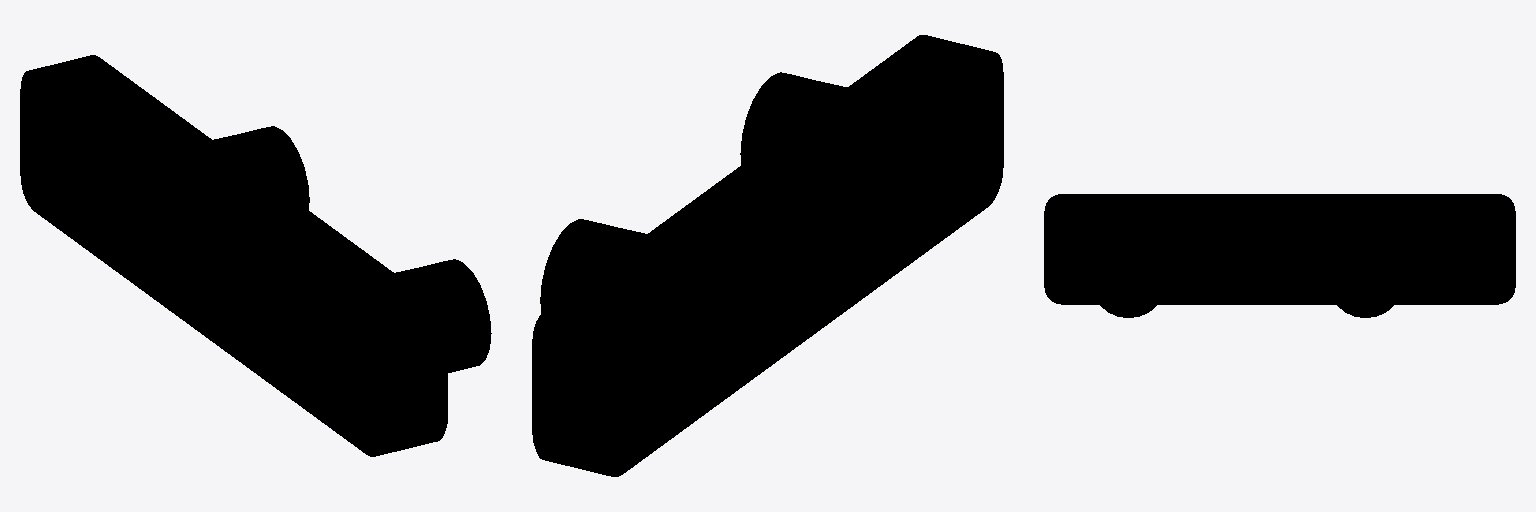
URDF robot description (zedm_camera):
<?xml version="1.0"?>
<!--
Copyright (c) 2018, STEREOLABS.

All rights reserved.

THIS SOFTWARE IS PROVIDED BY THE COPYRIGHT HOLDERS AND CONTRIBUTORS
"AS IS" AND ANY EXPRESS OR IMPLIED WARRANTIES, INCLUDING, BUT NOT
LIMITED TO, THE IMPLIED WARRANTIES OF MERCHANTABILITY AND FITNESS FOR
A PARTICULAR PURPOSE ARE DISCLAIMED. IN NO EVENT SHALL THE COPYRIGHT
OWNER OR CONTRIBUTORS BE LIABLE FOR ANY DIRECT, INDIRECT, INCIDENTAL,
SPECIAL, EXEMPLARY, OR CONSEQUENTIAL DAMAGES (INCLUDING, BUT NOT
LIMITED TO, PROCUREMENT OF SUBSTITUTE GOODS OR SERVICES; LOSS OF USE,
DATA, OR PROFITS; OR BUSINESS INTERRUPTION) HOWEVER CAUSED AND ON ANY
THEORY OF LIABILITY, WHETHER IN CONTRACT, STRICT LIABILITY, OR TORT
(INCLUDING NEGLIGENCE OR OTHERWISE) ARISING IN ANY WAY OUT OF THE USE
OF THIS SOFTWARE, EVEN IF ADVISED OF THE POSSIBILITY OF SUCH DAMAGE.
-->
<robot name="zedm_camera">

<!-- base_link -->
    <link name="base_link" />

<!-- Camera Center -->
    <joint name="zed_camera_center_joint" type="fixed">
        <parent link="base_link"/>
        <child link="zed_camera_center"/>
        <origin xyz="0 0 0" rpy="0 0 0" />
    </joint>

    <link name="zed_camera_center">
        <visual>
            <origin xyz="0 0 0" rpy="0 0 0"/>
            <geometry>
                <mesh filename="package://zed_wrapper/urdf/models/ZEDM.stl" />
            </geometry>
            <material name="light_grey">
                <color rgba="0 0 0 0.9"/>
            </material>
        </visual>
    </link>

<!-- Left Camera -->
    <joint name="zed_left_camera_joint" type="fixed">
        <parent link="zed_camera_center"/>
        <child link="zed_left_camera_frame"/>
        <origin xyz="0 0.03 0" rpy="0 0 0" />
    </joint>

    <link name="zed_left_camera_frame" />

    <joint name="zed_left_camera_optical_joint" type="fixed">
        <origin xyz="0 0 0" rpy="-1.57079632679 0.0 -1.57079632679"/>
        <parent link="zed_left_camera_frame"/>
        <child link="zed_left_camera_optical_frame"/>
    </joint>

    <link name="zed_left_camera_optical_frame"/>

<!-- Right Camera -->
    <joint name="zed_right_camera_joint" type="fixed">
        <parent link="zed_camera_center"/>
        <child link="zed_right_camera_frame"/>
        <origin xyz="0 -0.03 0" rpy="0 0 0" />
    </joint>

    <link name="zed_right_camera_frame" />

    <joint name="zed_right_camera_optical_joint" type="fixed">
        <origin xyz="0 0 0" rpy="-1.57079632679 0.0 -1.57079632679"/>
        <parent link="zed_right_camera_frame"/>
        <child link="zed_right_camera_optical_frame"/>
    </joint>

    <link name="zed_right_camera_optical_frame"/>

<!-- IMU -->    
    <joint name="imu_link_joint" type="floating">
        <parent link="zed_camera_center"/>
        <child link="zed_imu_link"/>
        <origin xyz="0 0 0" rpy="0 0 0" />
    </joint>
    <link name="zed_imu_link" />
 
</robot>

--- Render facts (derived) ---
Views: 3 orthographic renders of the robot side by side, from view 1: azimuth 30°, elevation 25°; view 2: azimuth 150°, elevation 25°; view 3: azimuth 270°, elevation 25°.
Model zedm_camera with 7 links and 6 joints (5 fixed, 1 floating), rooted at base_link, posed all joints at 0.
Visible links, largest first — view 1: zed_camera_center; view 2: zed_camera_center; view 3: zed_camera_center.
Boxes of the visible links, x1=… form: zed_camera_center: x1=20, y1=55, x2=491, y2=456; zed_camera_center: x1=532, y1=35, x2=1003, y2=476; zed_camera_center: x1=1044, y1=194, x2=1515, y2=317.
Size in the robot's own frame: 0.0295 by 0.1252 by 0.0266 metres.
Meshes: 1 distinct files referenced, 1 mesh visuals loaded (1 binary STL).
